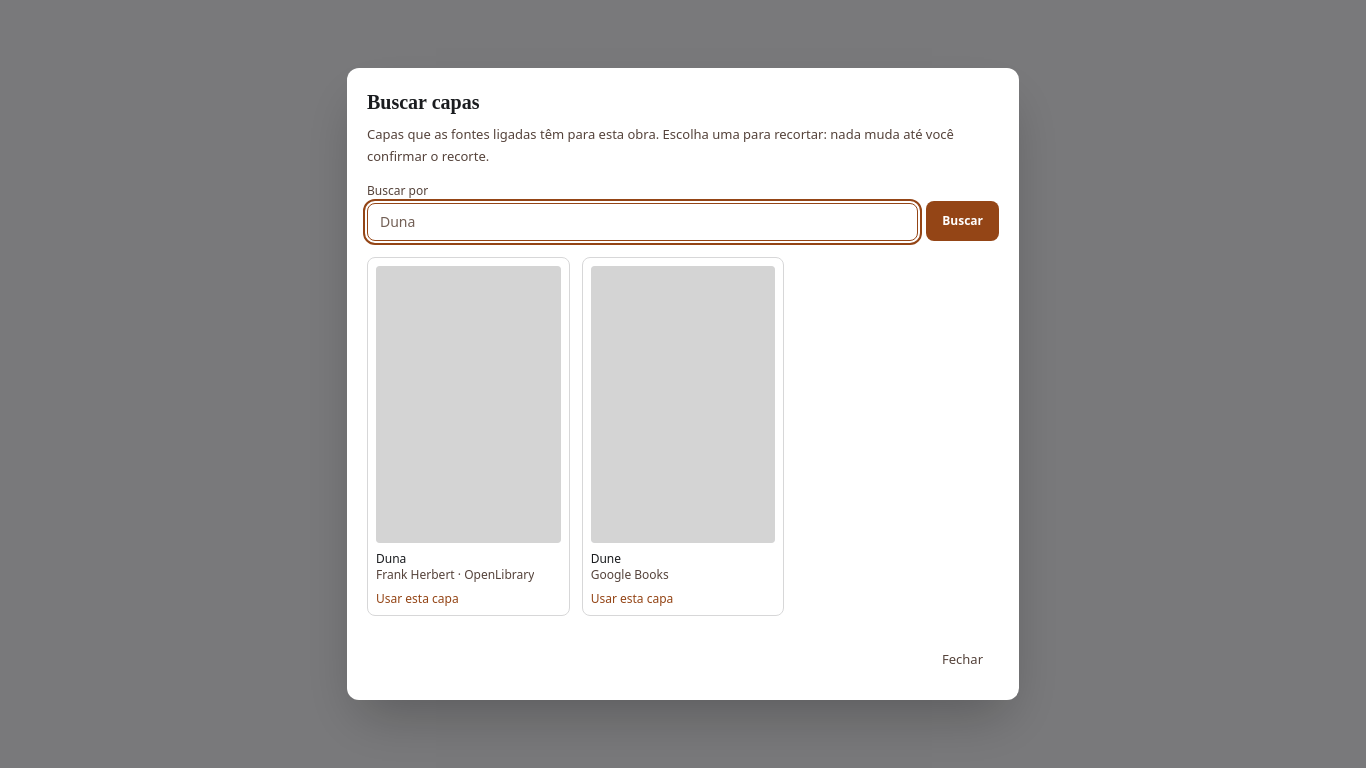
Test: CoverSearchDialog (DEC-174) › says so, and chooses nothing, when the picture is gone from the server
The width and height of the screenshot is (1366, 768).
Click the button "Duna Frank Herbert · OpenLibrary Usar esta capa". click: (468, 436)
box: x1=367 y1=257 x2=570 y2=616
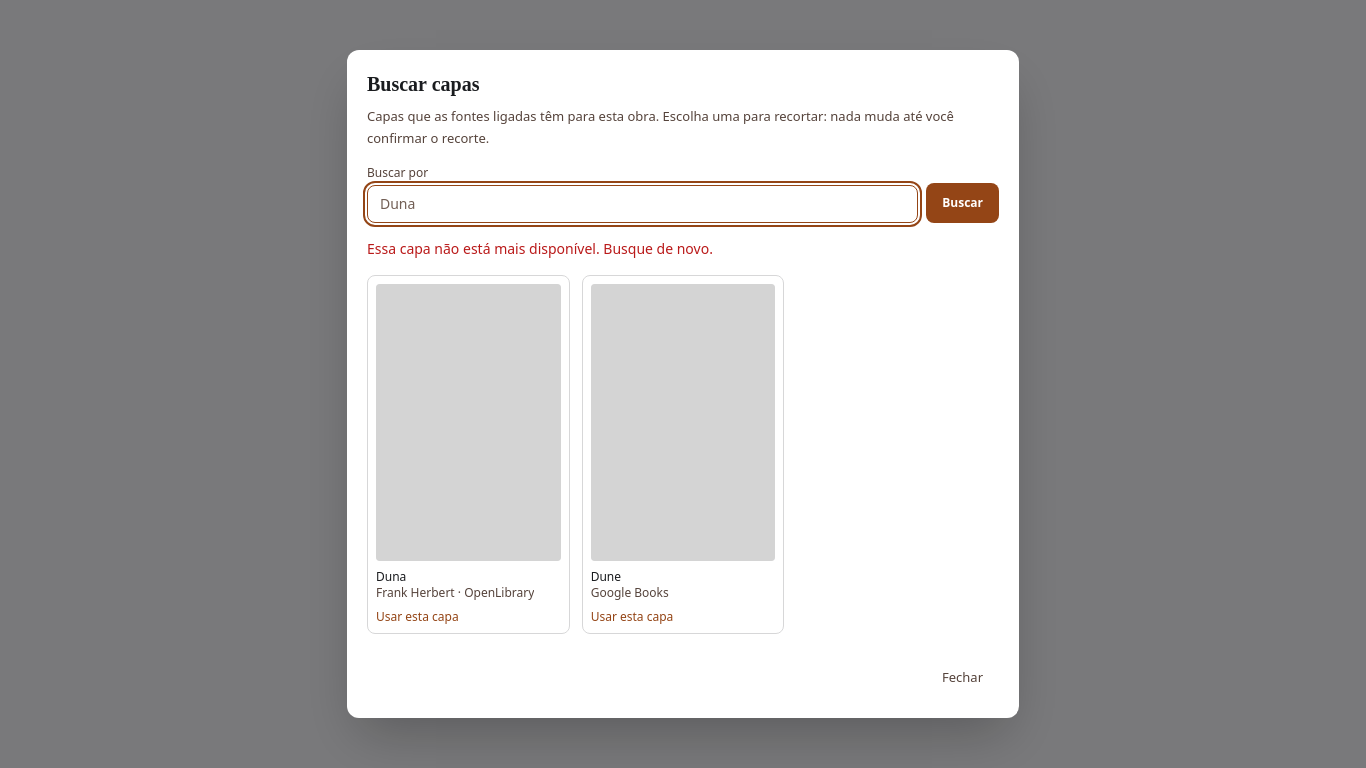
Now the message "Essa capa não está mais disponível. Busque de novo." is shown, box x1=367 y1=239 x2=713 y2=258
